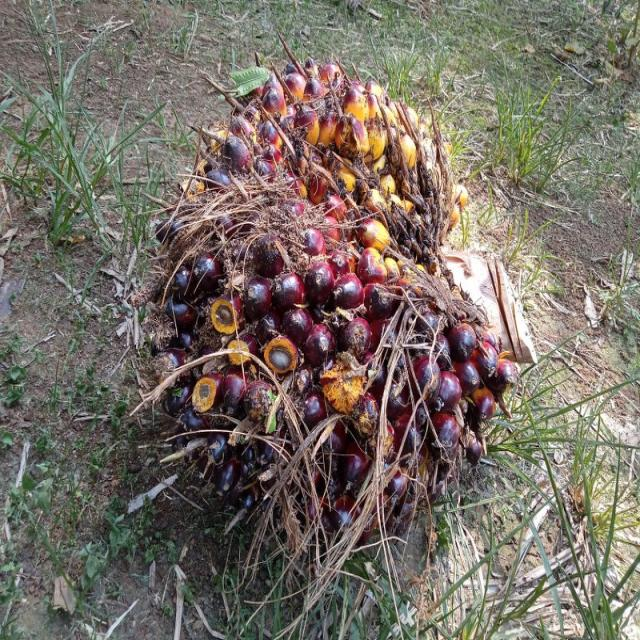fraksi 1: (142, 62, 519, 550)
